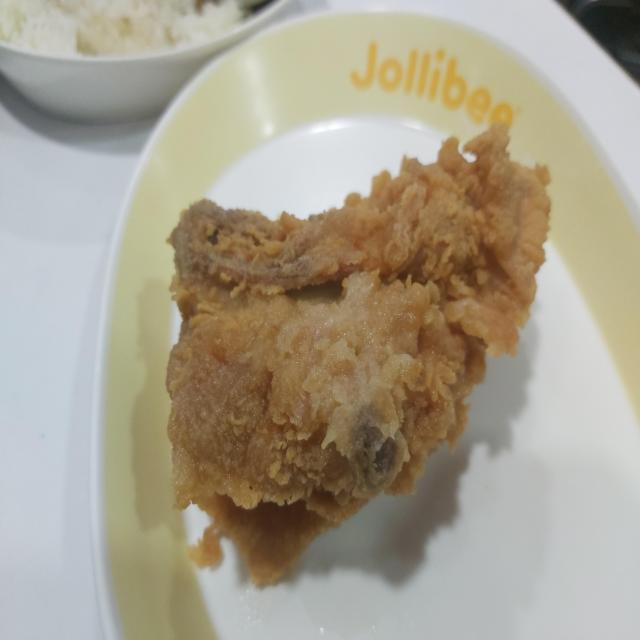Chicken -Fried Chicken-: (168, 125, 546, 550)
